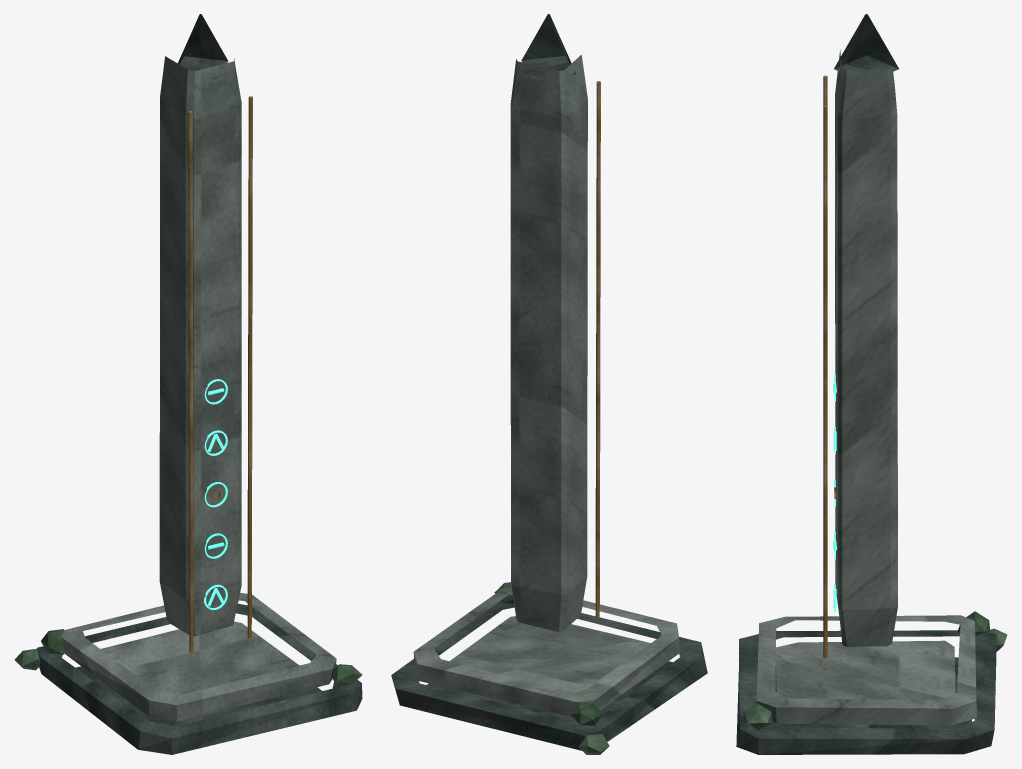
The model's file is 0488_obelisk_13.glb.
3 renders of one model, left to right at view 1: azimuth 30°, elevation 25°; view 2: azimuth 150°, elevation 25°; view 3: azimuth 270°, elevation 25°, orthographic. The views are drawn at different scales.
Parts seen in each view (by area): view 1: stone, stone_dark, brass, moss, glow; view 2: stone, stone_dark, brass, moss; view 3: stone, stone_dark, brass, moss.
Part boxes in pixels (x1,y1,x2,y2): stone: (61, 56, 336, 721); stone_dark: (37, 14, 362, 754); brass: (188, 96, 252, 652); moss: (14, 629, 362, 686); glow: (204, 379, 227, 610); stone: (413, 55, 679, 716); stone_dark: (391, 14, 707, 750); brass: (595, 81, 600, 618); moss: (494, 582, 609, 754); stone: (756, 50, 976, 725); stone_dark: (736, 14, 996, 754); brass: (823, 75, 835, 657); moss: (743, 611, 1007, 730).
Size of the model in its own units: 1.98 by 5.56 by 1.98.
Materials: 5 (5 with a texture image).
